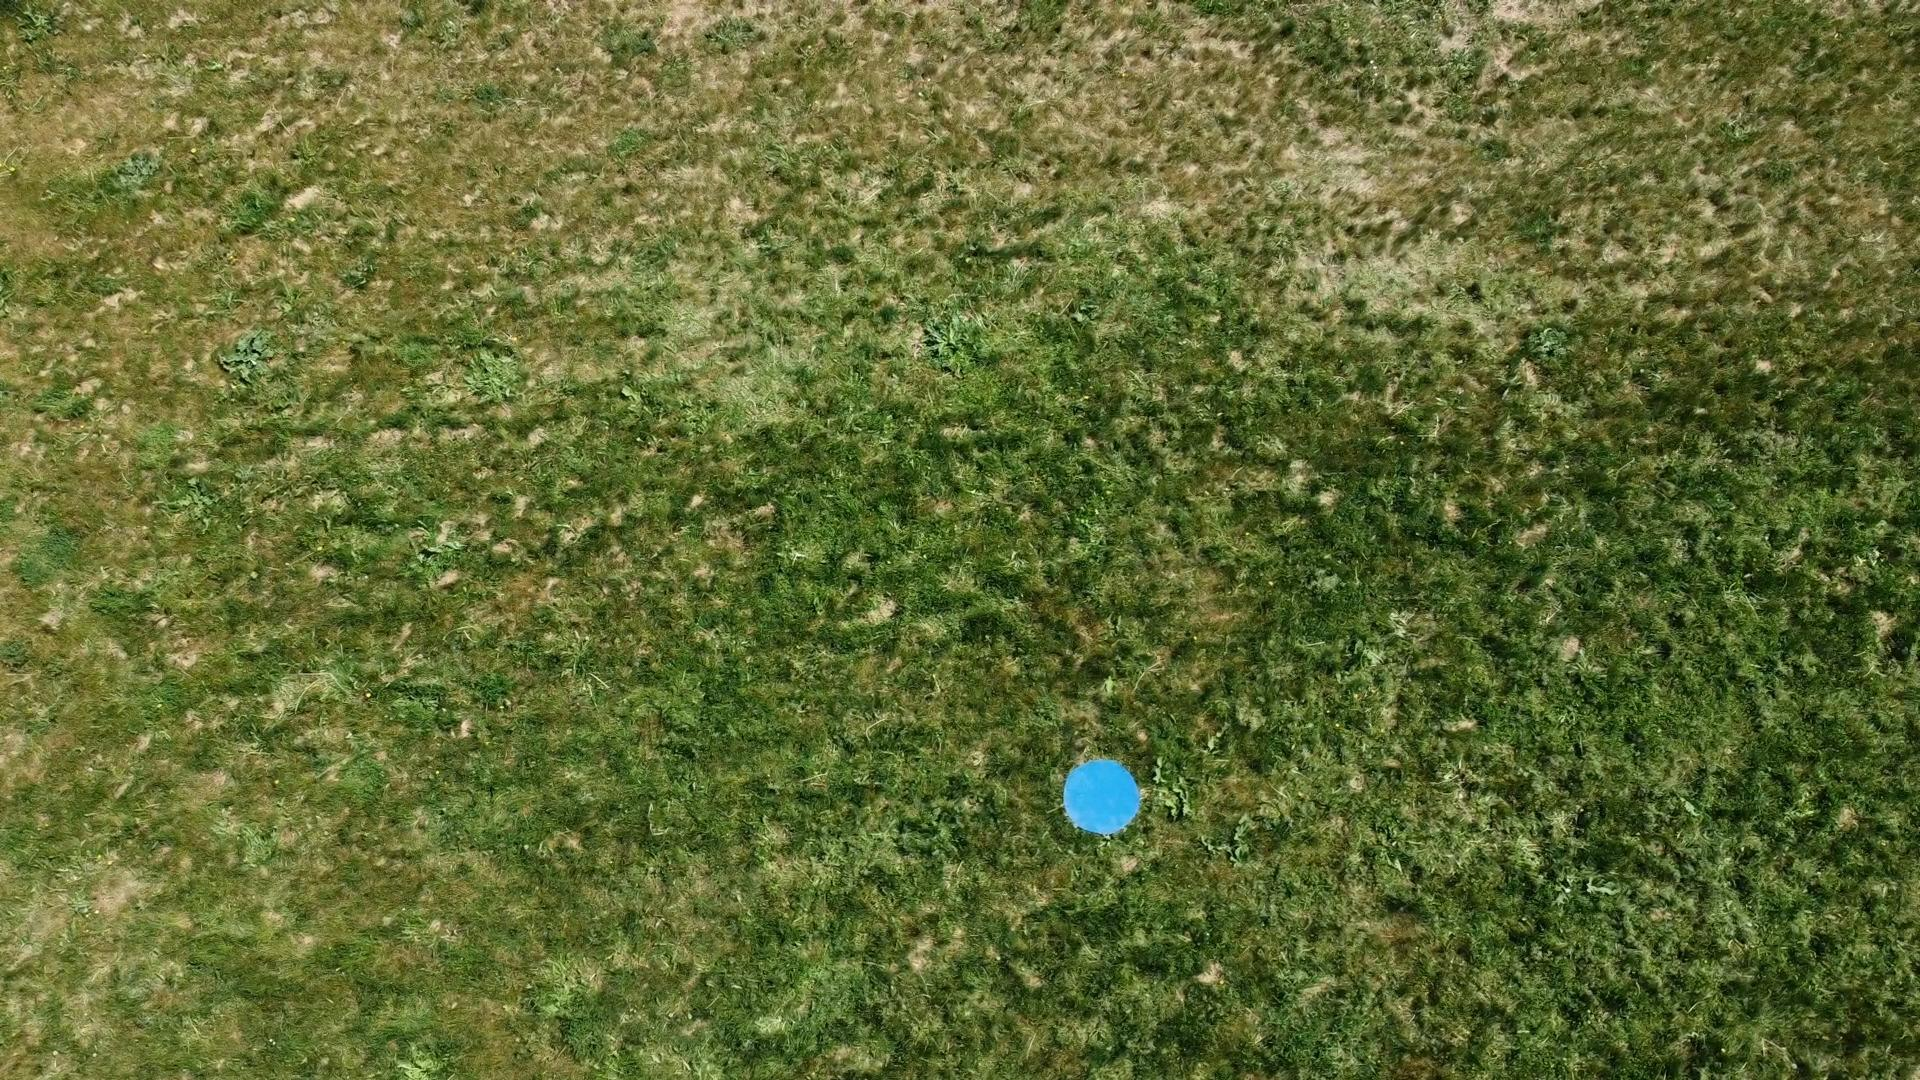Blue: (1059, 757, 1145, 839)
